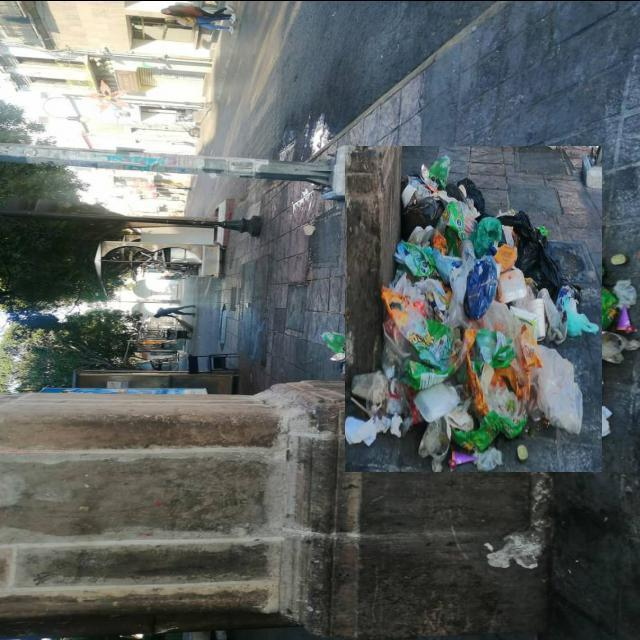Trashbag: (500, 208, 559, 298), (400, 176, 446, 229), (455, 176, 490, 215)
